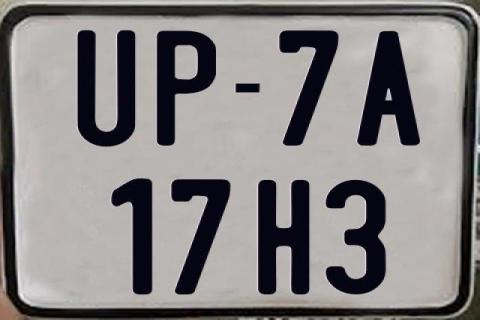0: (326, 180, 390, 296), (279, 29, 343, 144), (168, 177, 228, 295), (111, 176, 155, 294)
A: (356, 30, 424, 146)
H: (256, 179, 312, 296)
P: (156, 30, 218, 148)
U: (75, 30, 133, 148)
